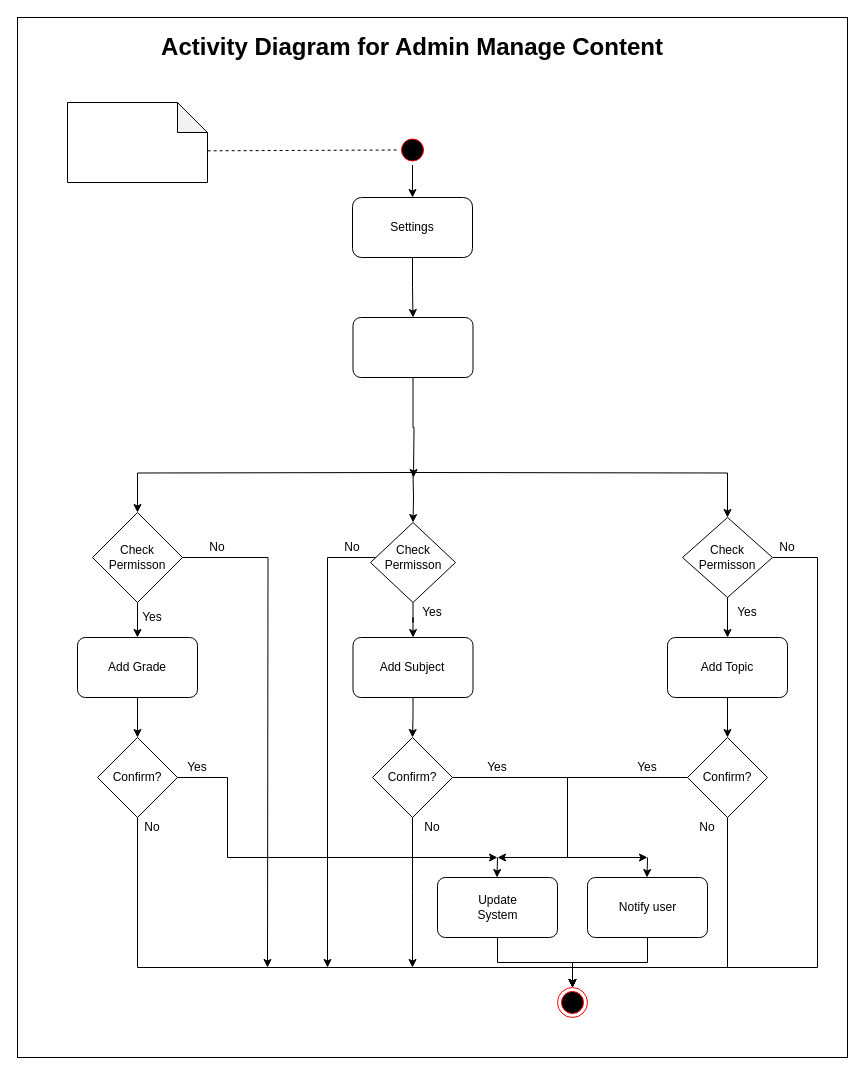
This 865x1075 diagram has some shape labels left out. The centre of each missing label's shape, as x and y in pixels:
Admin Logged in: (137,142)
Manage Content: (412,347)
